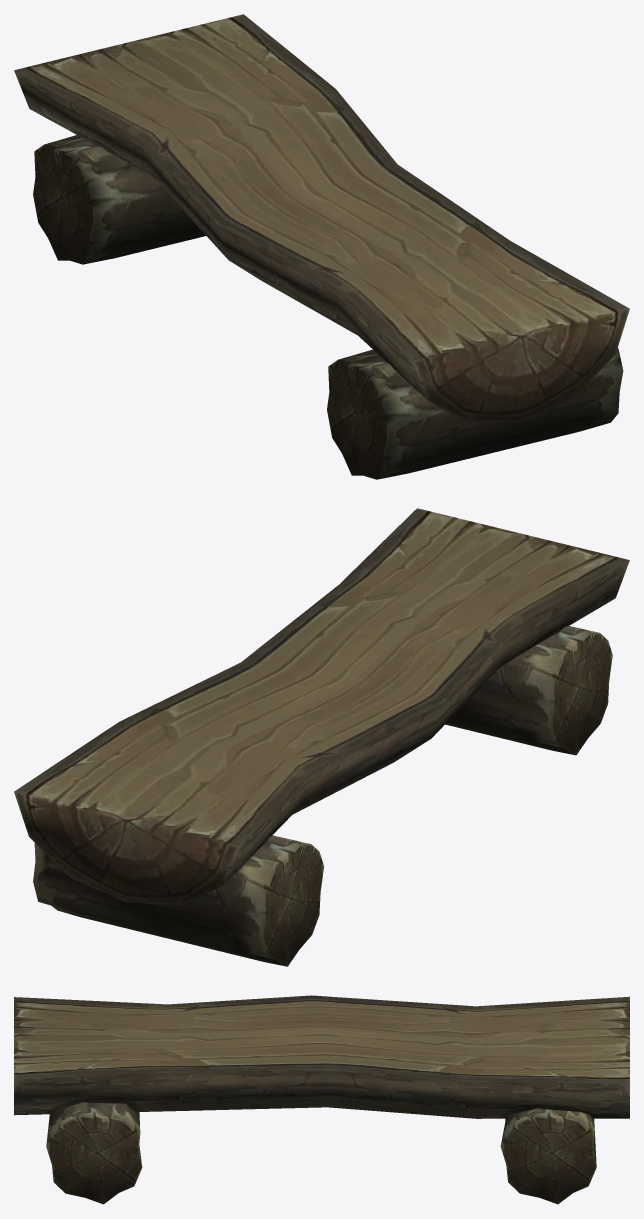
The picture shows the model from 3 angles, top to bottom: view 1: azimuth 30°, elevation 25°; view 2: azimuth 150°, elevation 25°; view 3: azimuth 270°, elevation 25°; orthographic projection. The views are drawn at different scales.
Size of the model in its own units: 2.78 by 1.77 by 8.17.
Materials: 1 (1 with a texture image).
